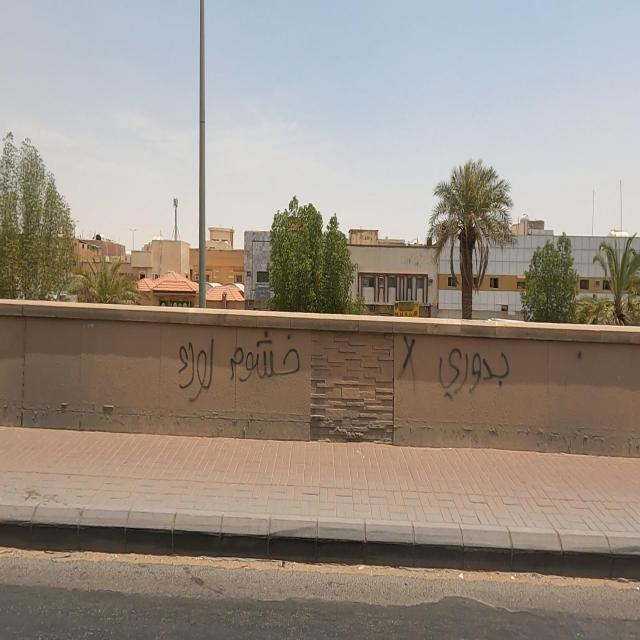Graffiti: (175, 331, 301, 404), (398, 337, 512, 403)
